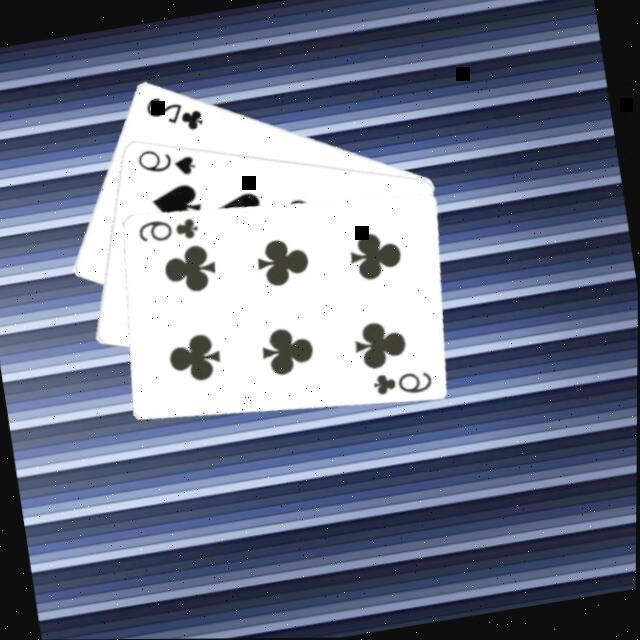2C: (139, 84, 207, 138)
6C: (132, 208, 202, 248), (367, 361, 436, 401)
9S: (132, 137, 199, 183)
